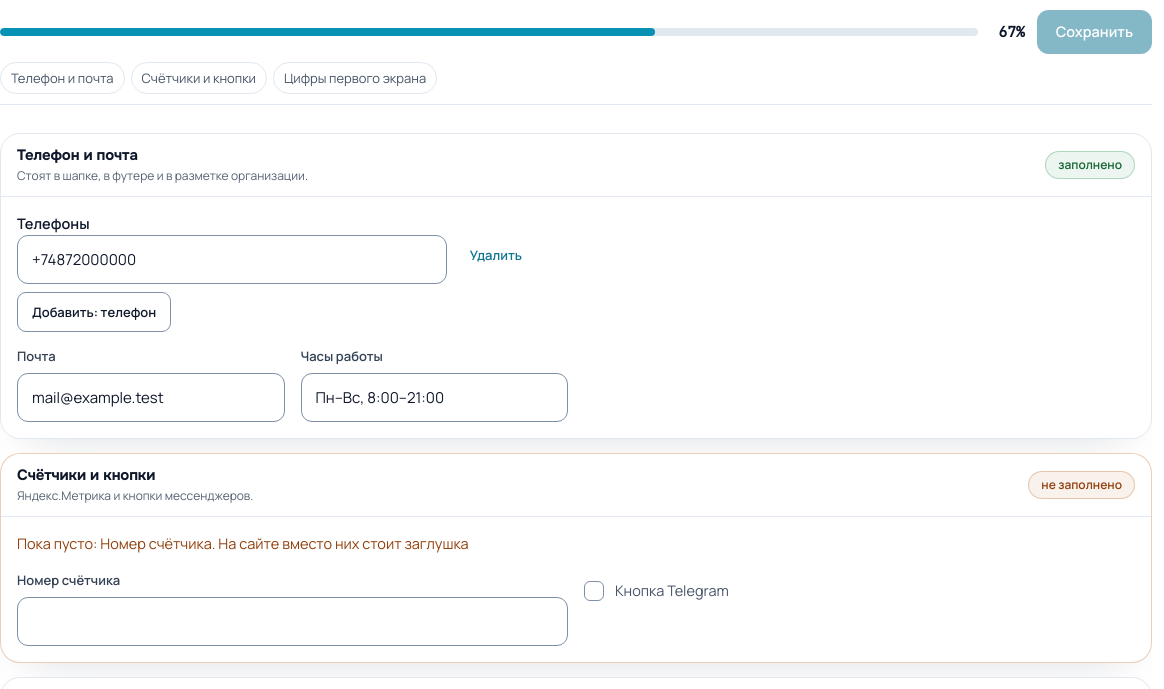
Test: Данные компании: одна кнопка на тринадцать групп › тронутая группа помечена: одна кнопка обязана показать, что она сохранит
In the field labelled "Почта": {"x": 151, "y": 398} [17,373,284,422], type "x"
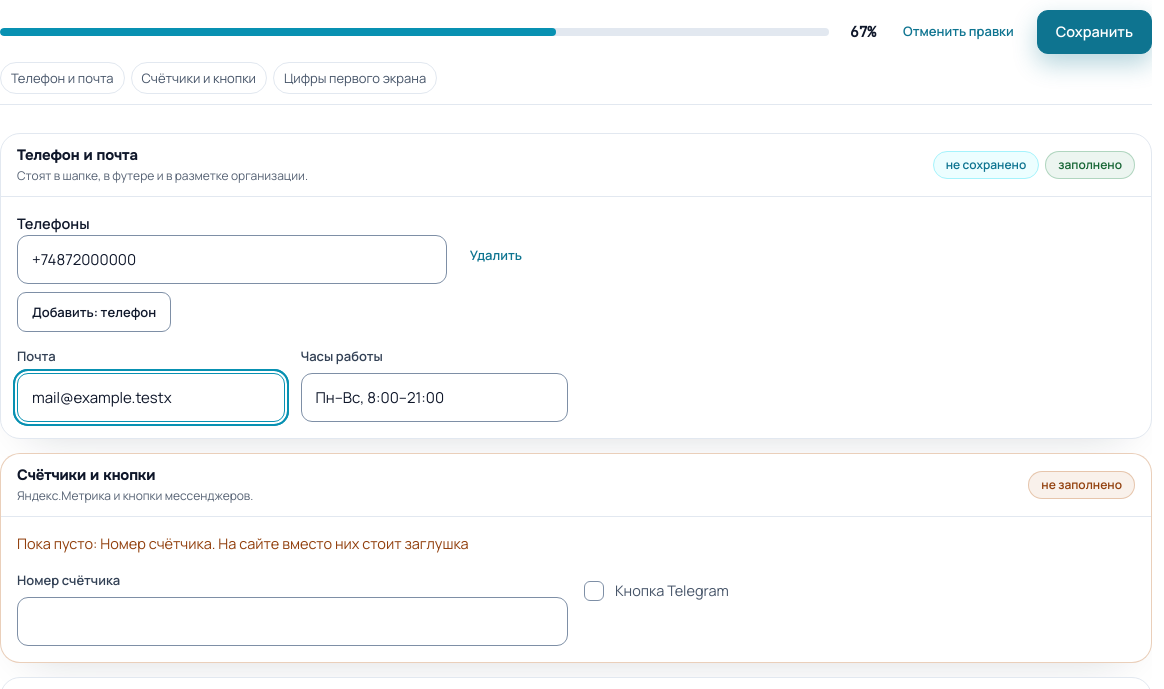
Expected: the text "не сохранено" is shown, [933,151,1039,179]
